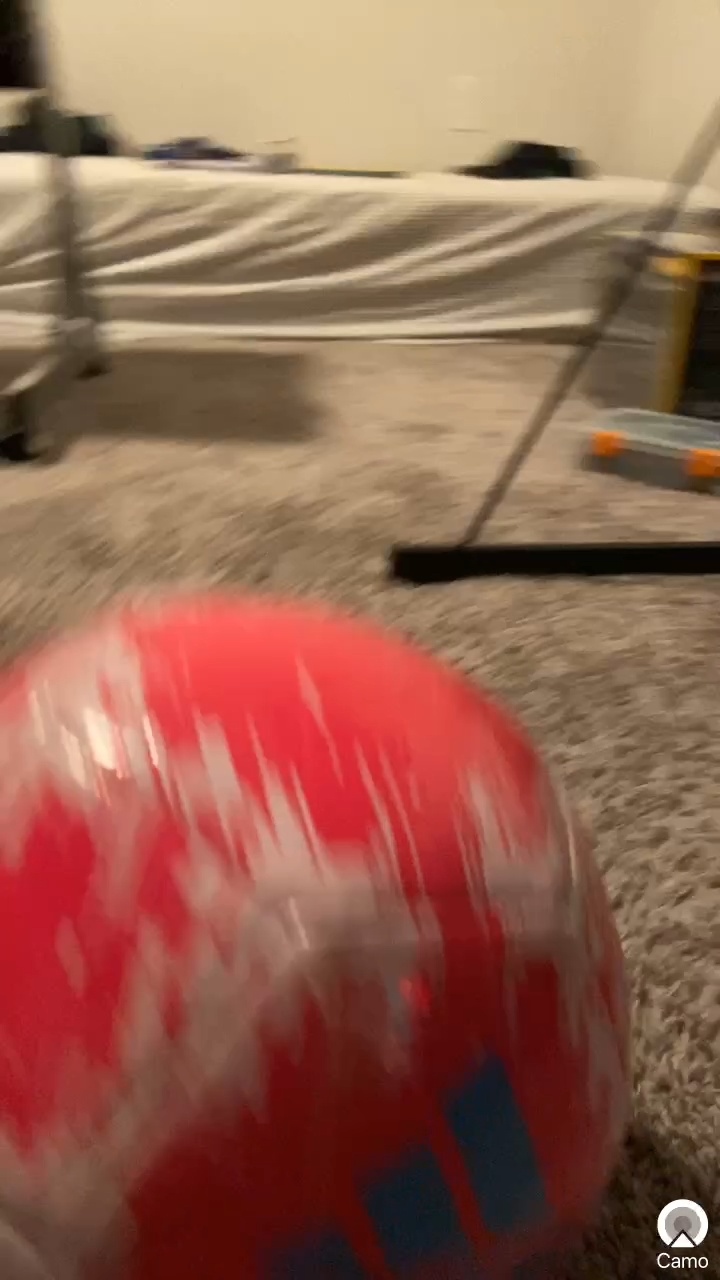Soccer_Ball: (6, 580, 636, 1280)
